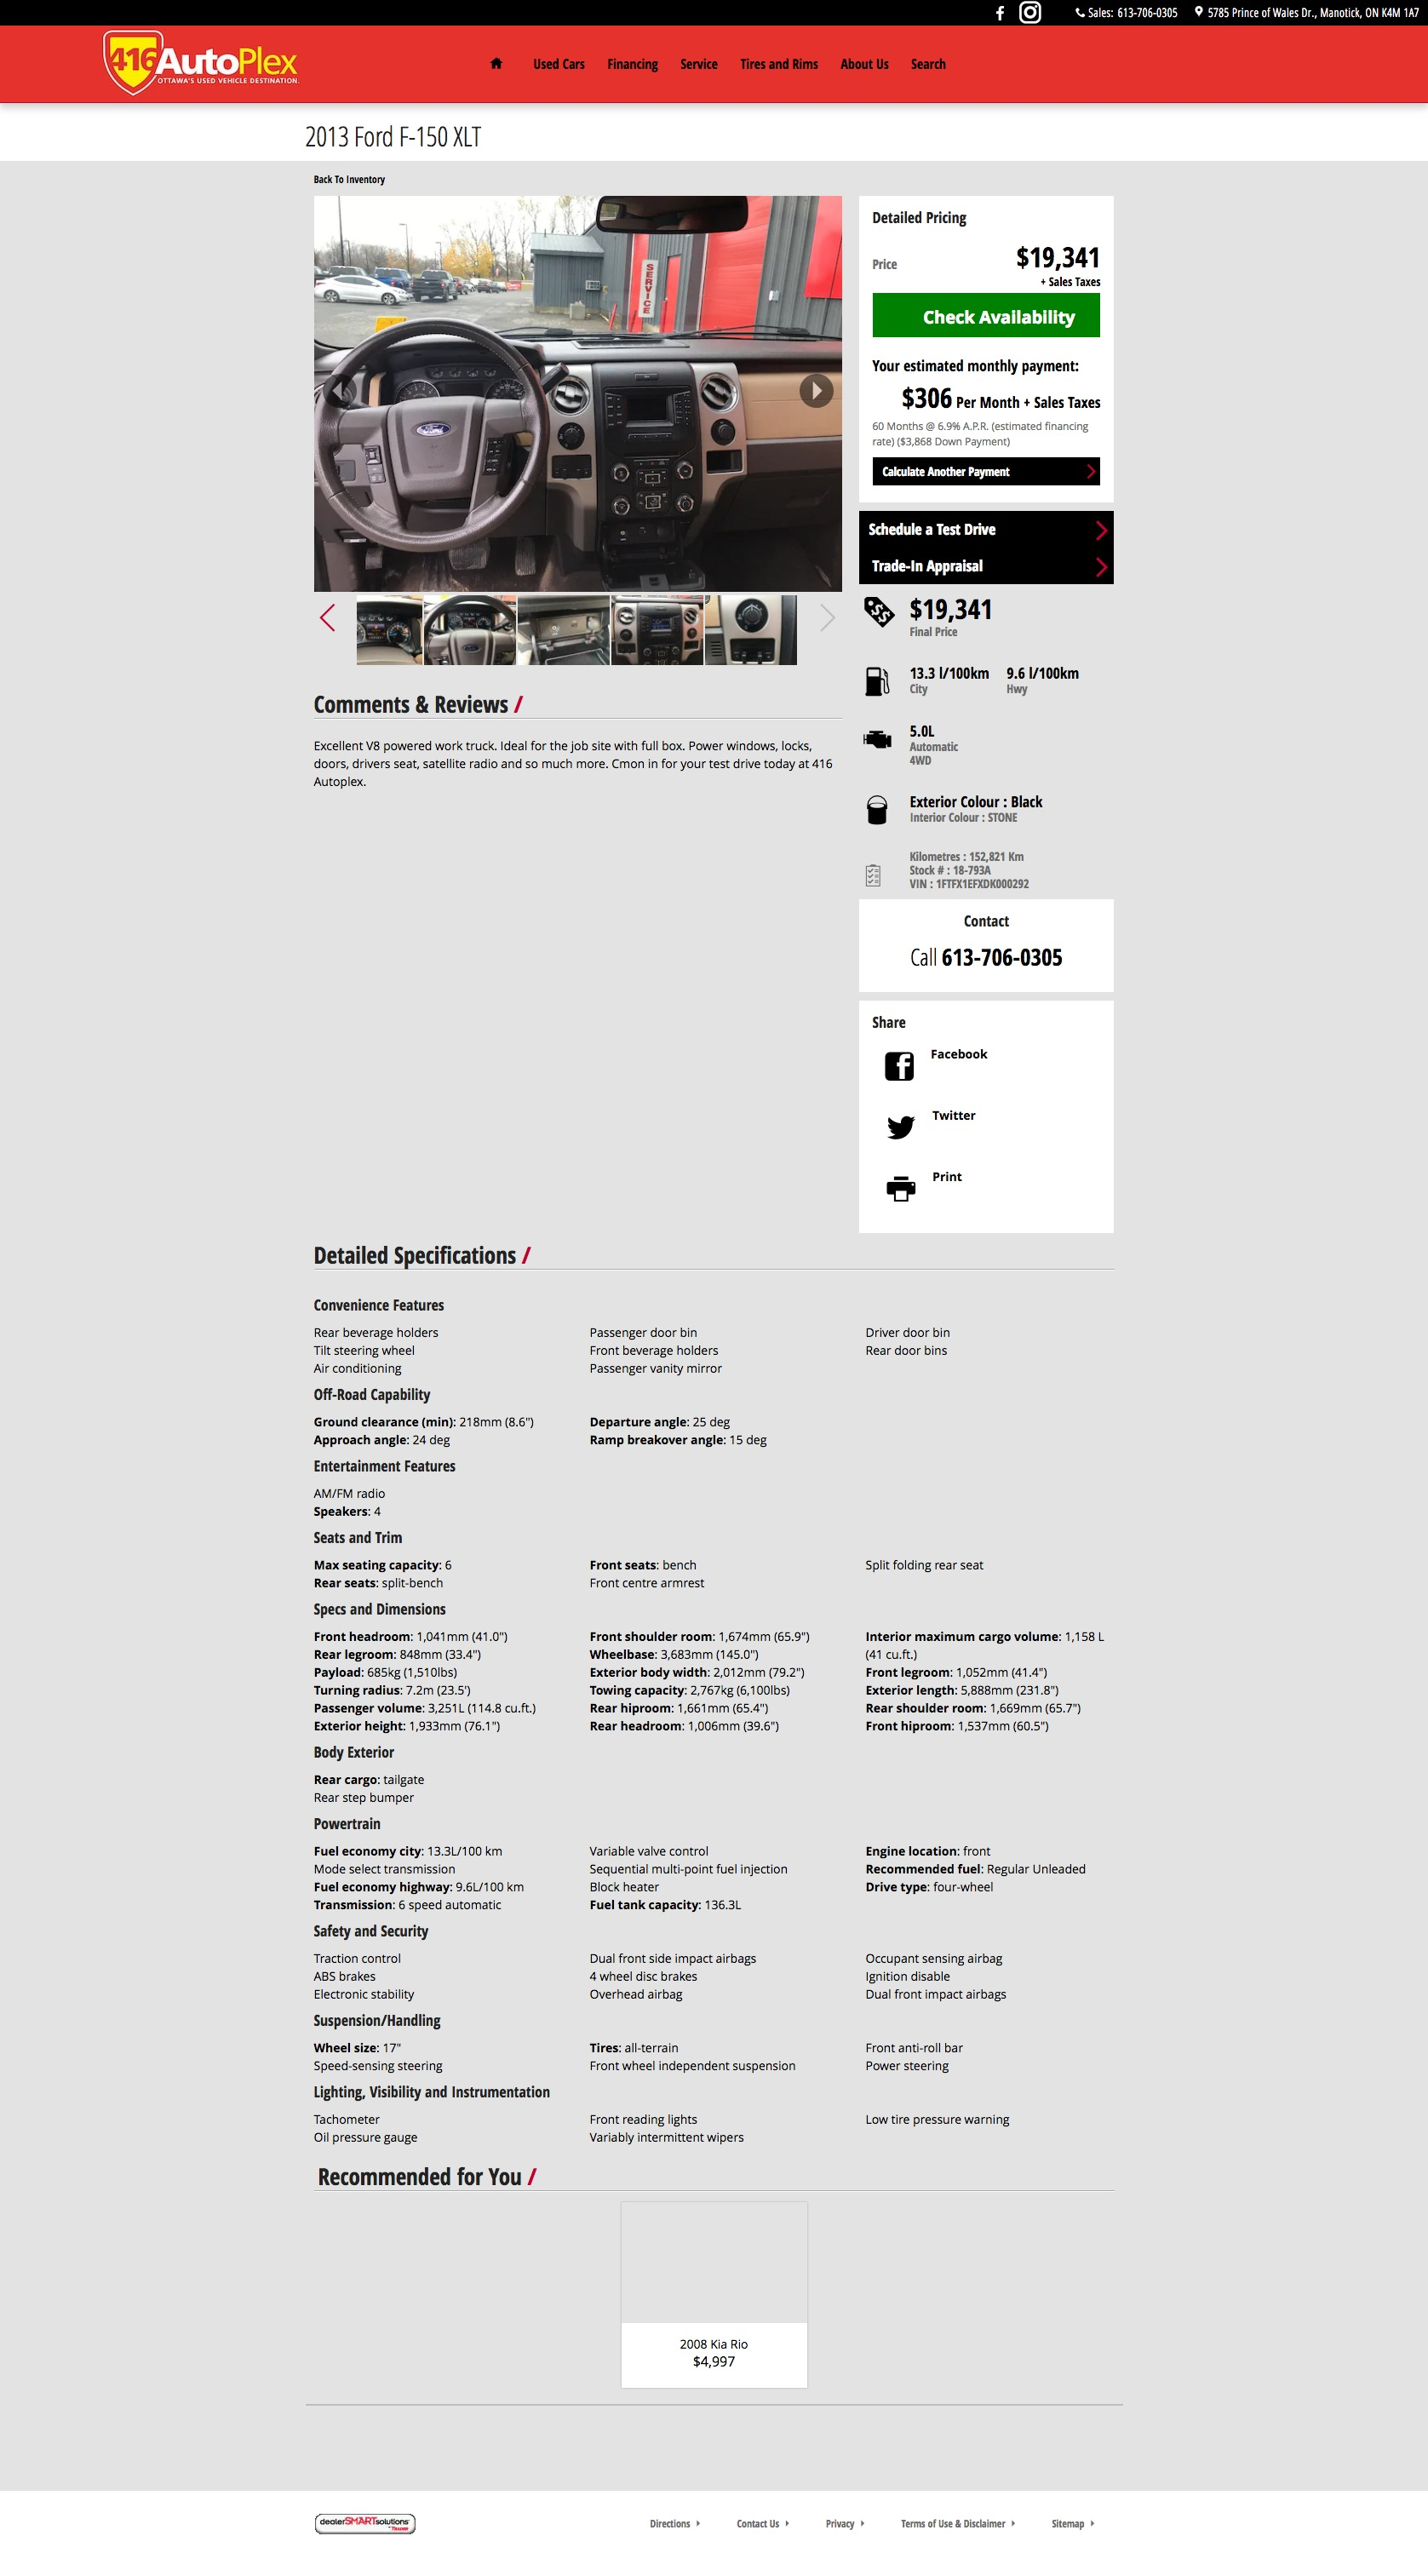car: (818, 605, 835, 633)
